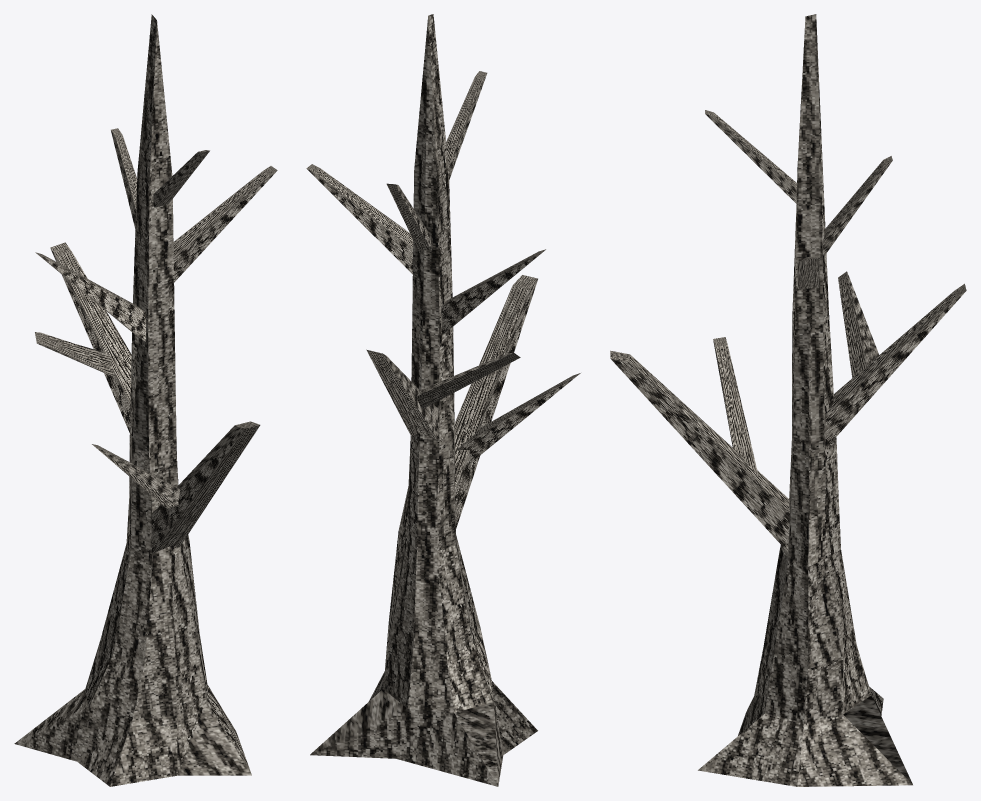
The model's file is treeseco.fbx.
3 renders of one model, left to right at view 1: azimuth 30°, elevation 25°; view 2: azimuth 150°, elevation 25°; view 3: azimuth 270°, elevation 25°, orthographic.
Parts seen in each view (by area): view 1: trunk, group; view 2: trunk, group; view 3: trunk, group.
Part boxes in pixels (left/top/right/bottom): trunk: left=14, top=14, right=251, bottom=786; group: left=35, top=128, right=277, bottom=553; trunk: left=310, top=14, right=537, bottom=786; group: left=306, top=71, right=580, bottom=528; trunk: left=698, top=14, right=912, bottom=786; group: left=610, top=110, right=966, bottom=551.
Bounding box in the file's own units: 160 × 470 × 206.
1 material, 1 textured.
